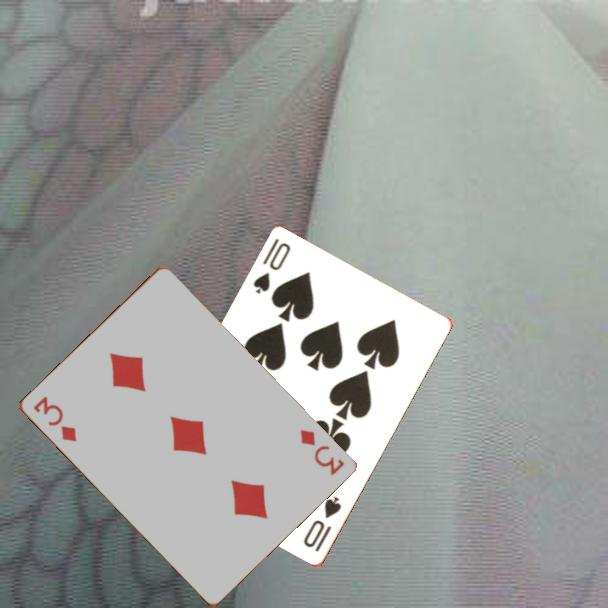d03: (296, 426, 347, 478), (29, 392, 79, 445)
s10: (300, 493, 345, 555), (250, 235, 294, 297)
